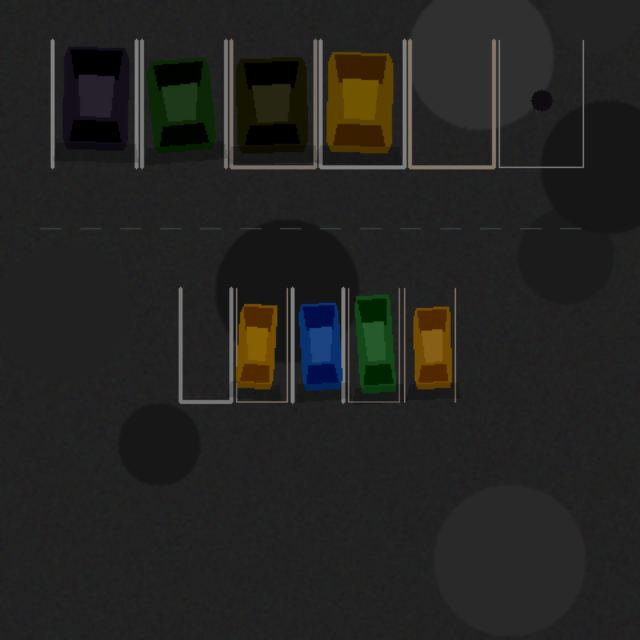space-empty: (409, 40, 493, 167), (499, 40, 583, 167), (180, 288, 231, 401)
space-occupied: (52, 40, 136, 167), (141, 40, 225, 167), (231, 40, 315, 167), (320, 40, 404, 167), (236, 288, 287, 401), (292, 288, 343, 401), (348, 288, 399, 401), (404, 288, 455, 401)
